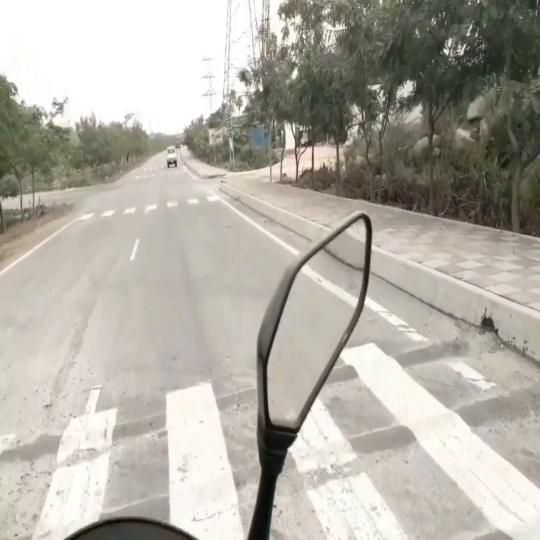Speed Bump: (322, 388, 540, 487), (1, 385, 256, 461), (106, 454, 255, 514), (346, 333, 494, 379), (461, 490, 539, 539)
